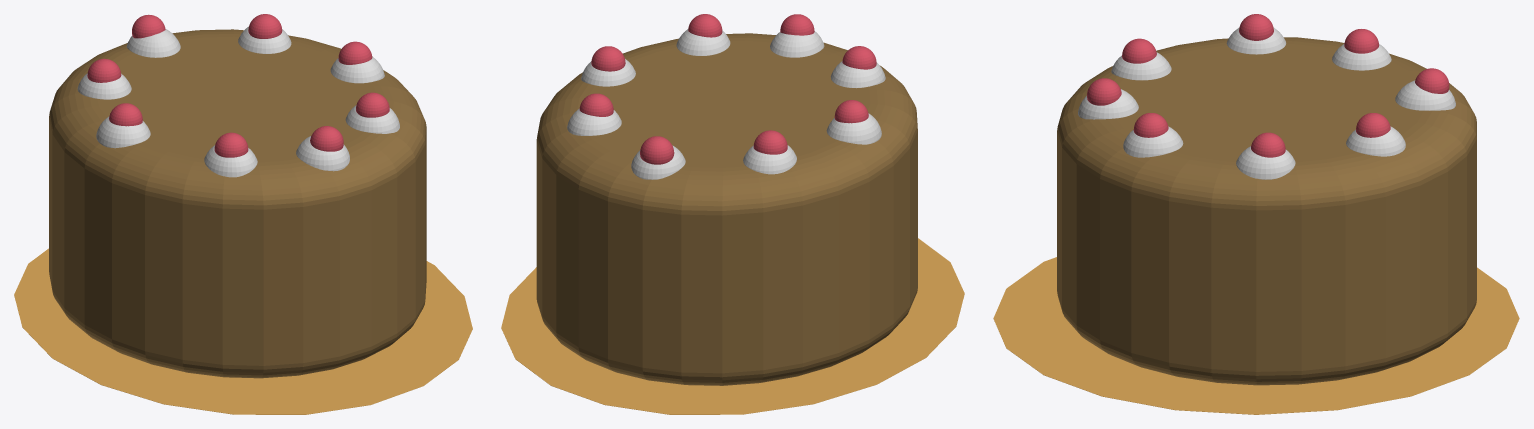
The model's file is cake.glb.
3 views of the same model, side by side, from view 1: azimuth 30°, elevation 25°; view 2: azimuth 150°, elevation 25°; view 3: azimuth 270°, elevation 25° (orthographic). The views are drawn at different scales.
Parts seen in each view (by area): view 1: Mesh_Mesh_head_geo.001_lambert2SG.001; view 2: Mesh_Mesh_head_geo.001_lambert2SG.001; view 3: Mesh_Mesh_head_geo.001_lambert2SG.001.
Boxes of the visible parts, x1=… form: Mesh_Mesh_head_geo.001_lambert2SG.001: x1=14, y1=14, x2=472, y2=414; Mesh_Mesh_head_geo.001_lambert2SG.001: x1=501, y1=14, x2=964, y2=414; Mesh_Mesh_head_geo.001_lambert2SG.001: x1=993, y1=14, x2=1519, y2=414.
Size of the model in its own units: 39 by 23 by 45.
